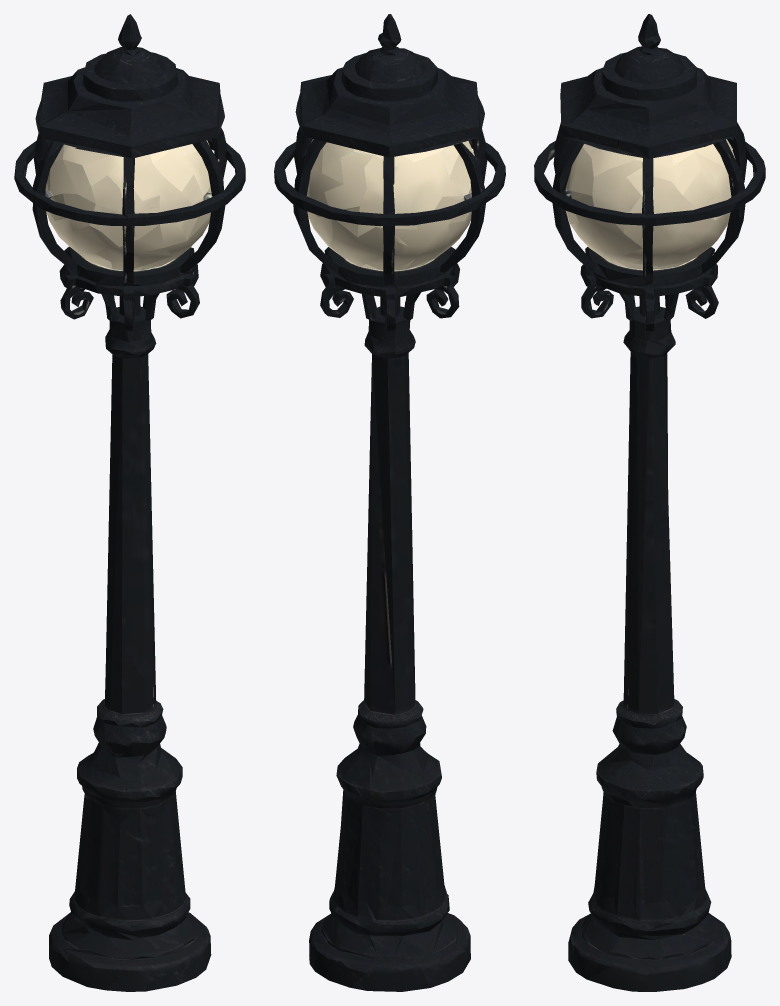
The model's file is lamp.glb.
The picture shows the model from 3 angles, left to right: view 1: azimuth 30°, elevation 25°; view 2: azimuth 150°, elevation 25°; view 3: azimuth 270°, elevation 25°; orthographic projection.
Size of the model in its own units: 0.8414 by 3.8 by 0.8448.
Materials: 1 (1 with a texture image).
